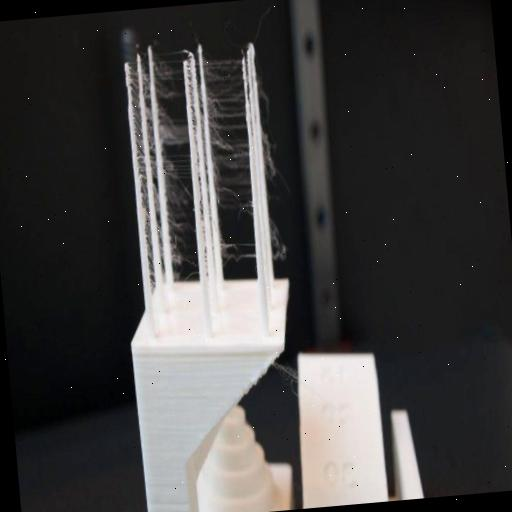stringing: (204, 53, 252, 223), (129, 66, 156, 297), (142, 58, 165, 279), (163, 155, 195, 287), (154, 58, 185, 104), (160, 110, 190, 150), (270, 211, 290, 265), (221, 237, 256, 267), (263, 121, 278, 187), (275, 360, 301, 397), (256, 63, 272, 123)
